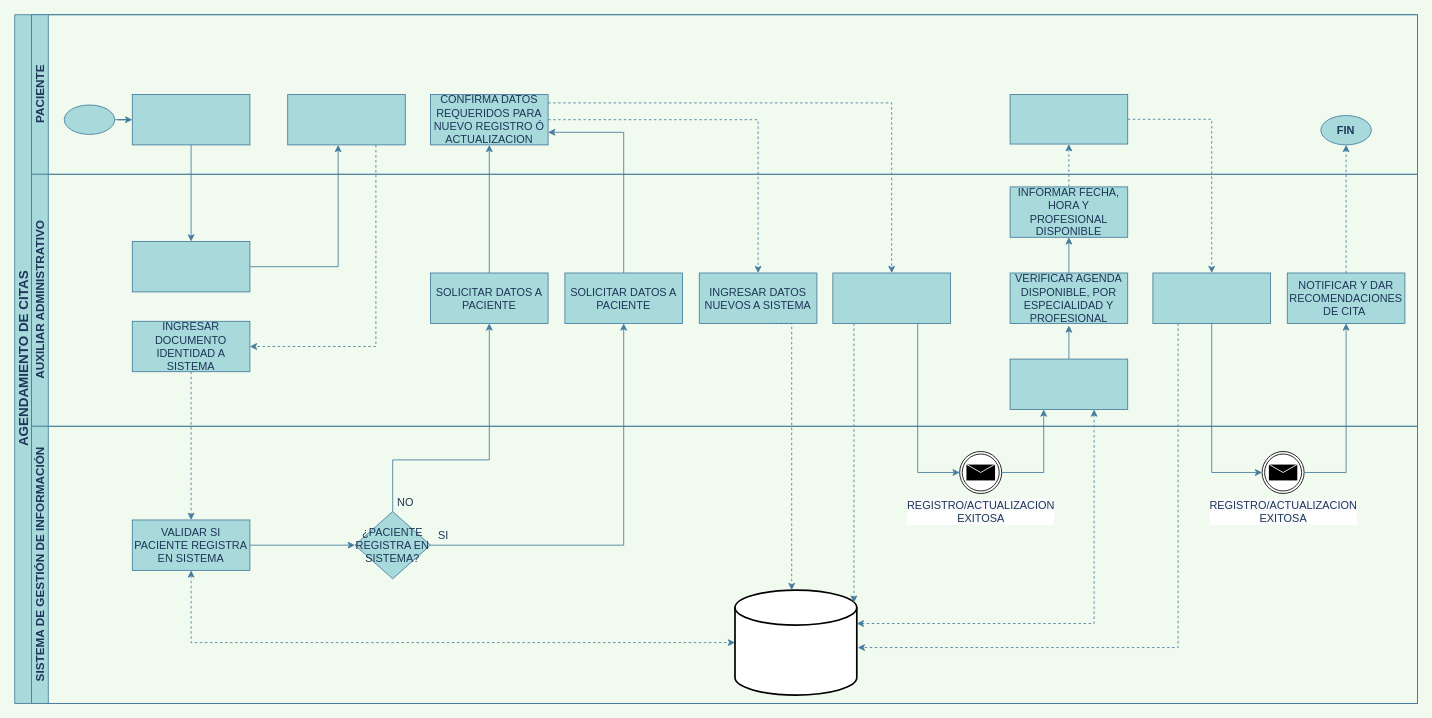
This 1432x718 diagram has some shape labels left out. Here are the shapes that lost their labels. From the top down, the box of each, then its label:
(63, 104, 115, 134): INICIO
(131, 94, 250, 145): SOLICITAR CITA (TELEFONO O PRESENCIAL)
(287, 94, 405, 145): CONFIRMA DOCUMENTO DE IDENTIFICACIÓN
(1009, 94, 1128, 144): CONFIRMAR FECHA, HORA Y PROFESIONAL QUE DESEA AGENDAR
(131, 241, 250, 292): SOLICITAR DOCUMENTO DE IDENTIFICACIÓN
(832, 272, 950, 323): ACTUALIZAR DATOS EN SISTEMA
(1152, 272, 1270, 323): INGRESAR DATOS DE CITA A SISTEMA
(1009, 358, 1128, 410): VERIFICAR ORDEN MEDICA
(734, 589, 857, 696): BASE DE DATOS DE CLINICA
